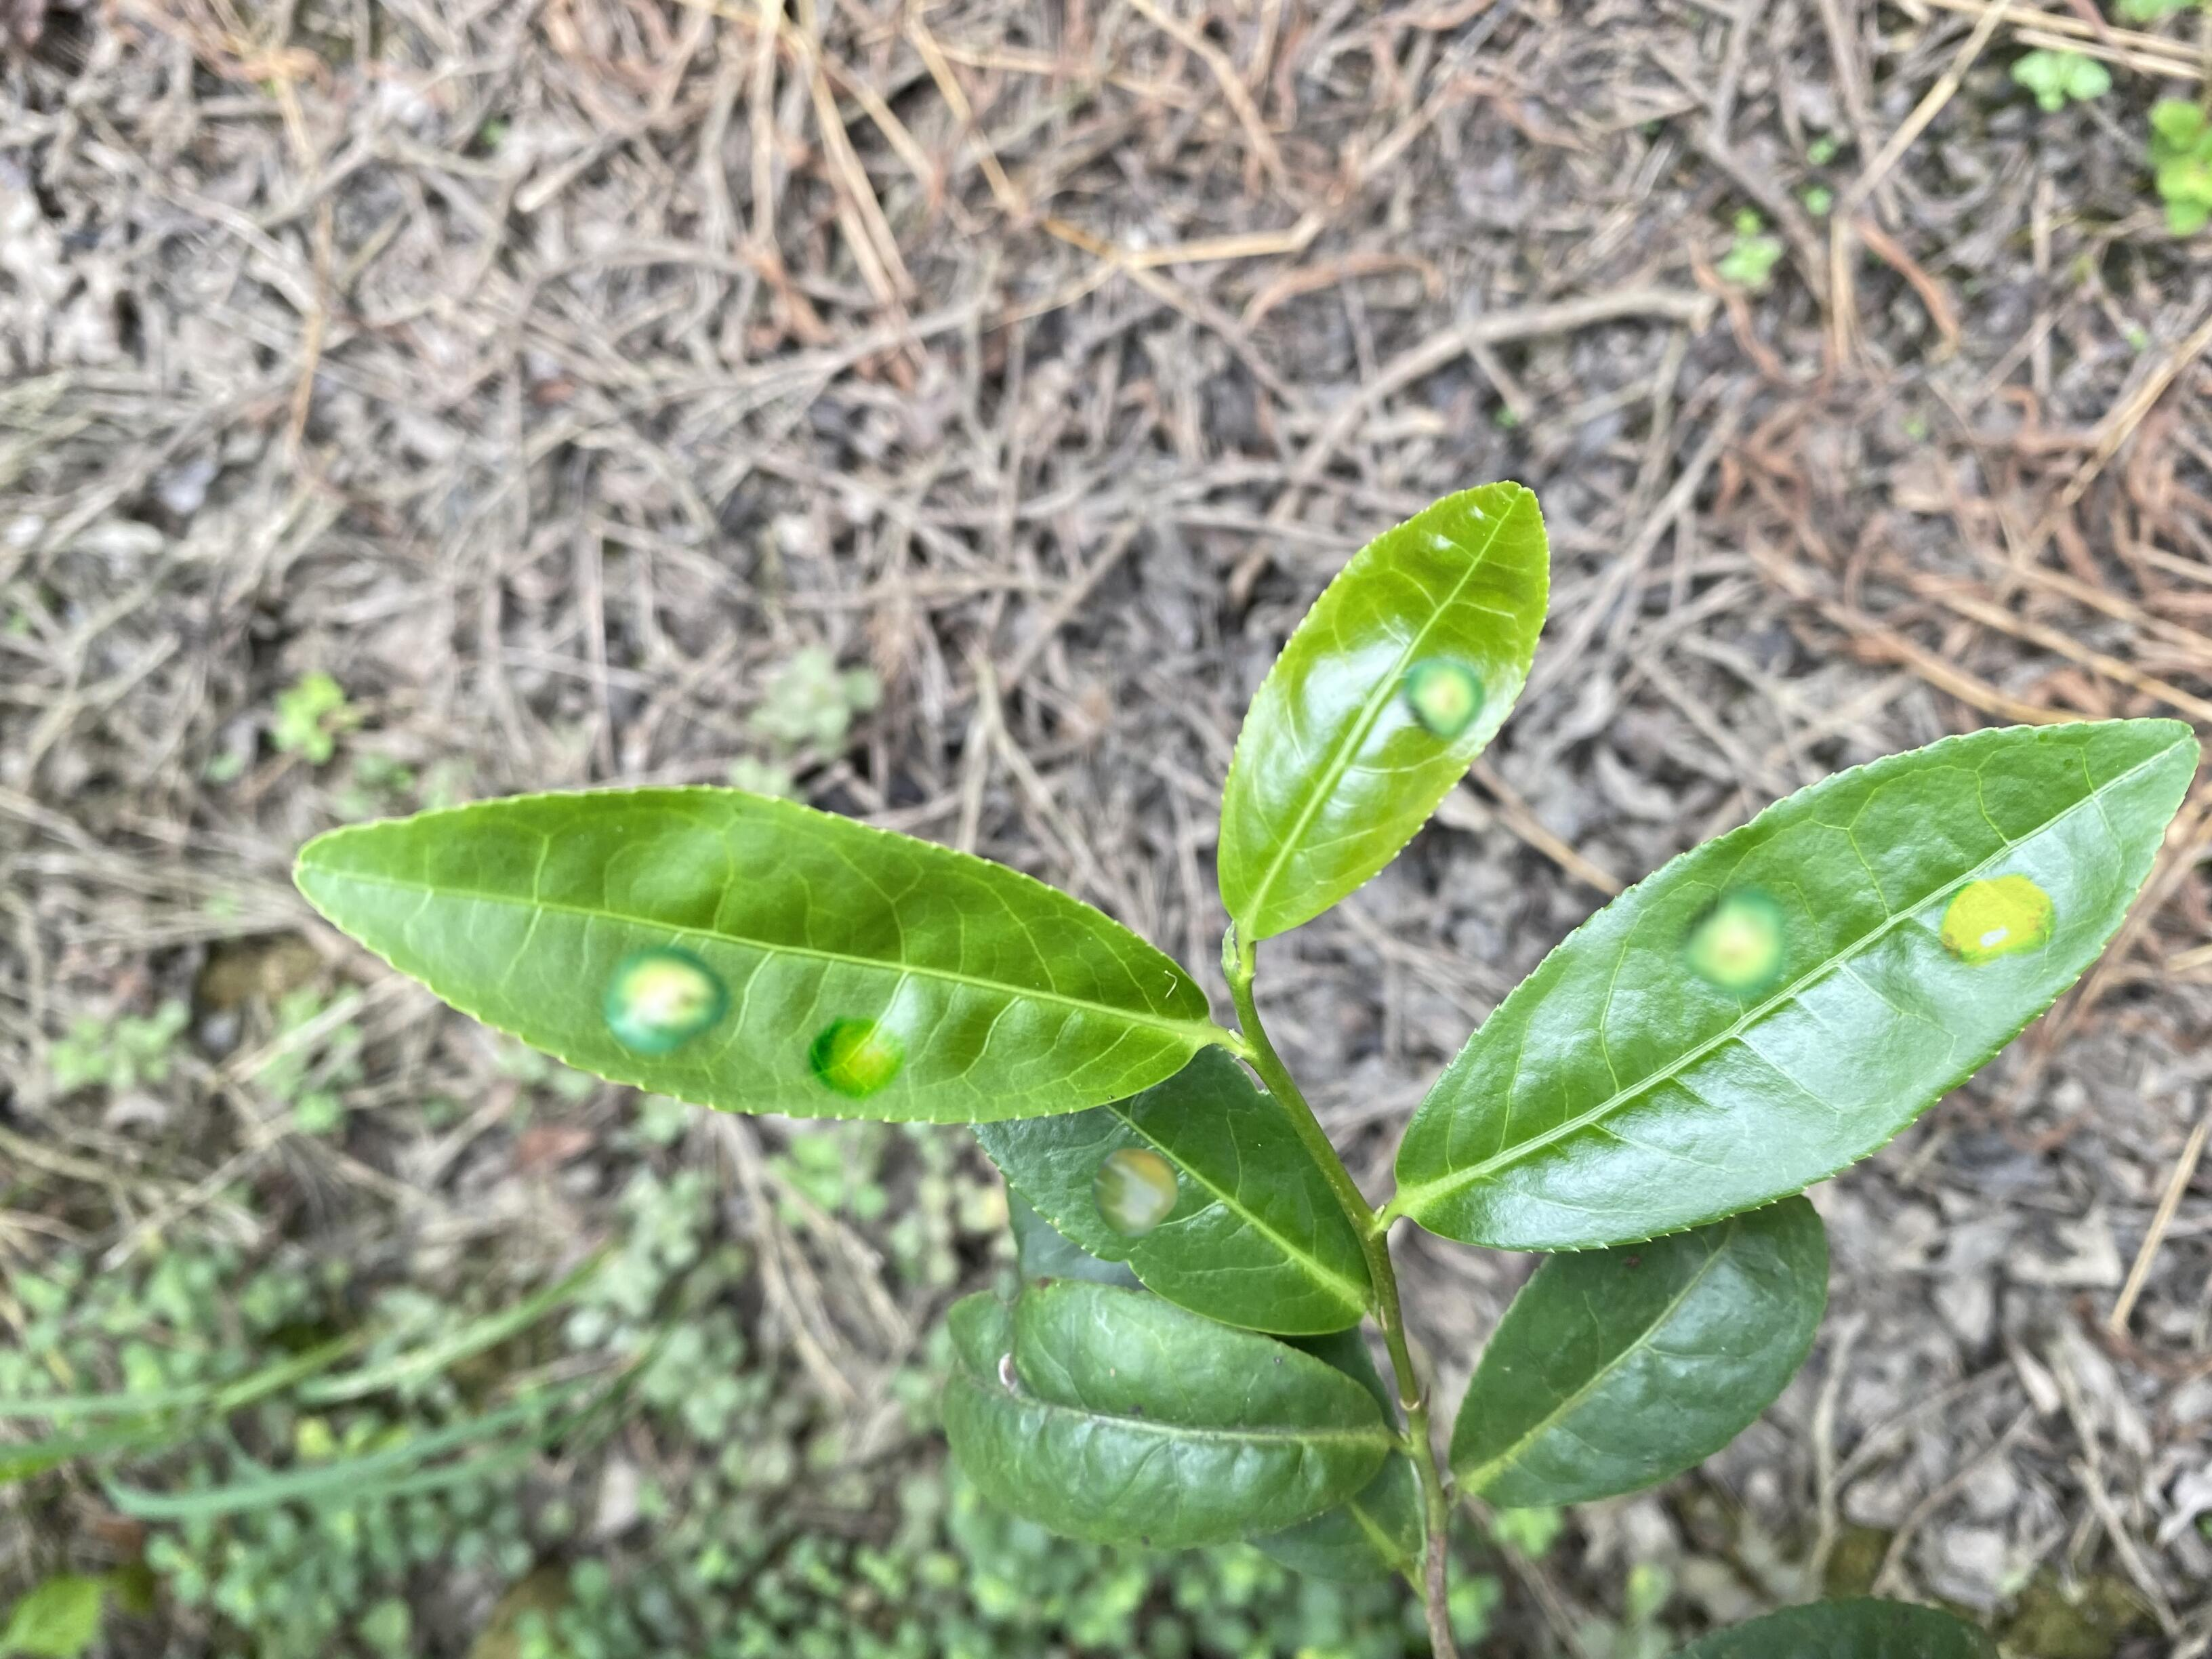chabing_high: (1399, 720, 2200, 1253), (291, 786, 1212, 1129)
chabing_low: (1212, 481, 1550, 943), (970, 1053, 1376, 1335)
tanju_low: (937, 1283, 1393, 1554)
